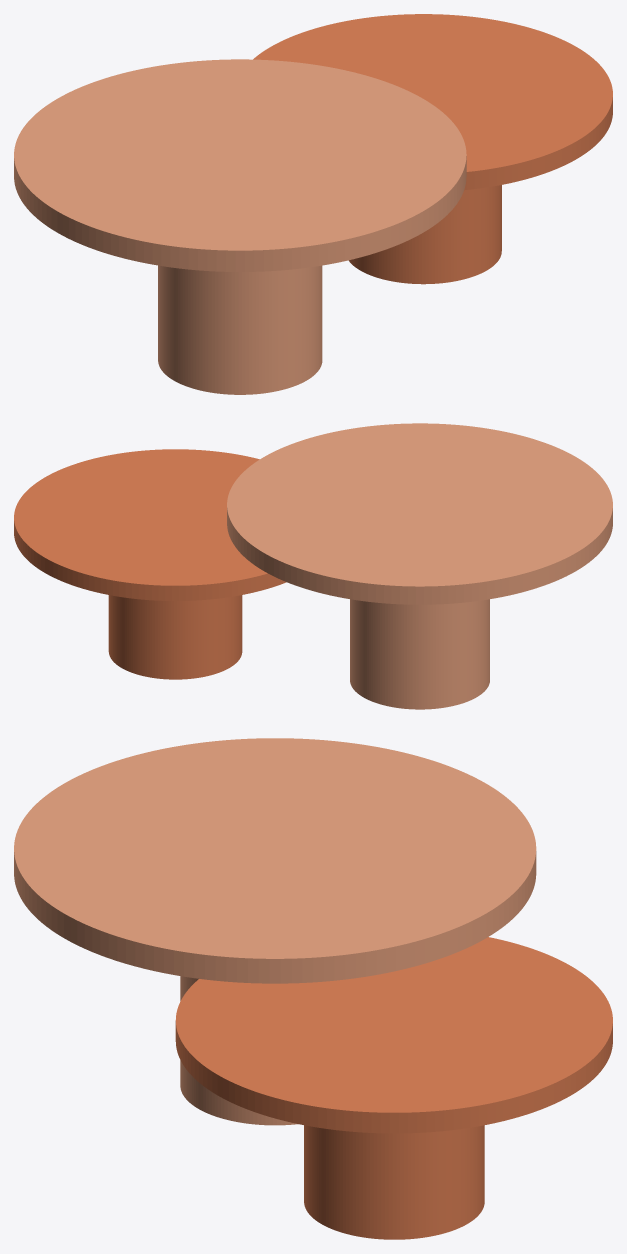
The model's file is Table2.glb.
3 renders of one model, top to bottom at view 1: azimuth 30°, elevation 25°; view 2: azimuth 150°, elevation 25°; view 3: azimuth 270°, elevation 25°, orthographic. The views are drawn at different scales.
Visible parts, largest first — view 1: Cylinder.014; view 2: Cylinder.014; view 3: Cylinder.014.
Boxes of the visible parts, x1,y1,x2,y2 form: Cylinder.014: (14,14,612,394); Cylinder.014: (14,423,612,709); Cylinder.014: (14,738,612,1239).
Bounding box in the file's own units: 1.27 × 0.418 × 0.9583.
